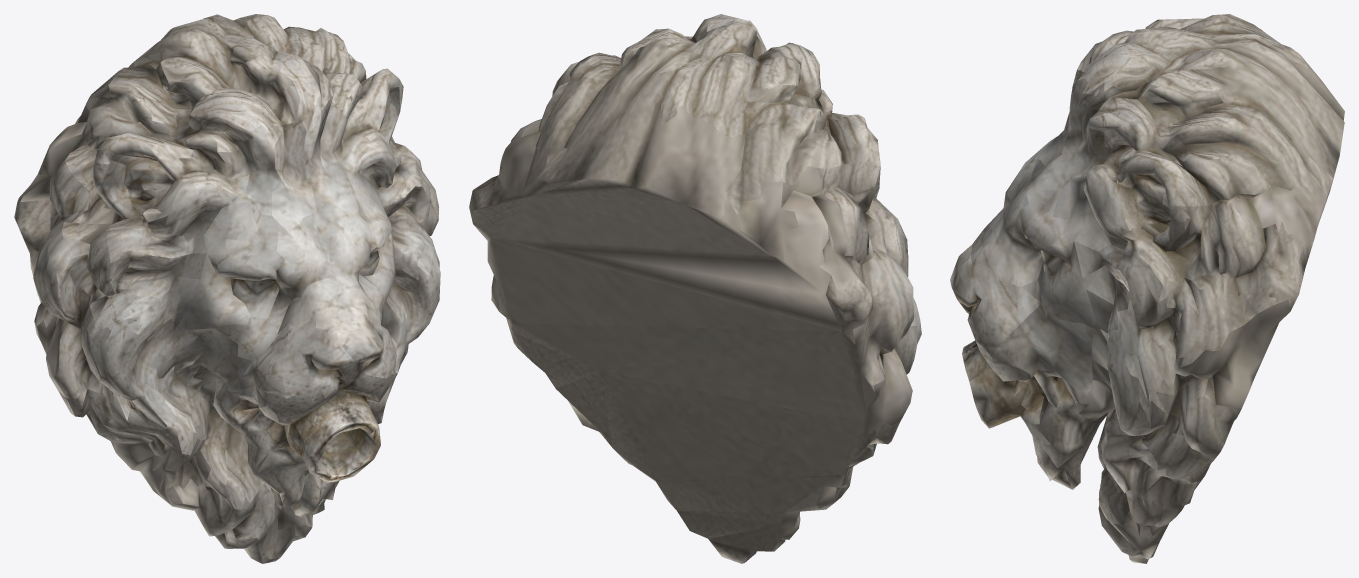
Rendered from marble-lion.glb.
3 views of the same model, side by side, from view 1: azimuth 30°, elevation 25°; view 2: azimuth 150°, elevation 25°; view 3: azimuth 270°, elevation 25° (orthographic). The views are drawn at different scales.
Visible parts, largest first — view 1: marble-lion; view 2: marble-lion; view 3: marble-lion.
Part boxes in pixels (<box>): marble-lion: <box>14,14,440,563</box>; marble-lion: <box>469,14,921,563</box>; marble-lion: <box>950,14,1344,563</box>.
Size of the model in its own units: 1.5 by 1.9 by 1.28.
1 material, 1 textured.
